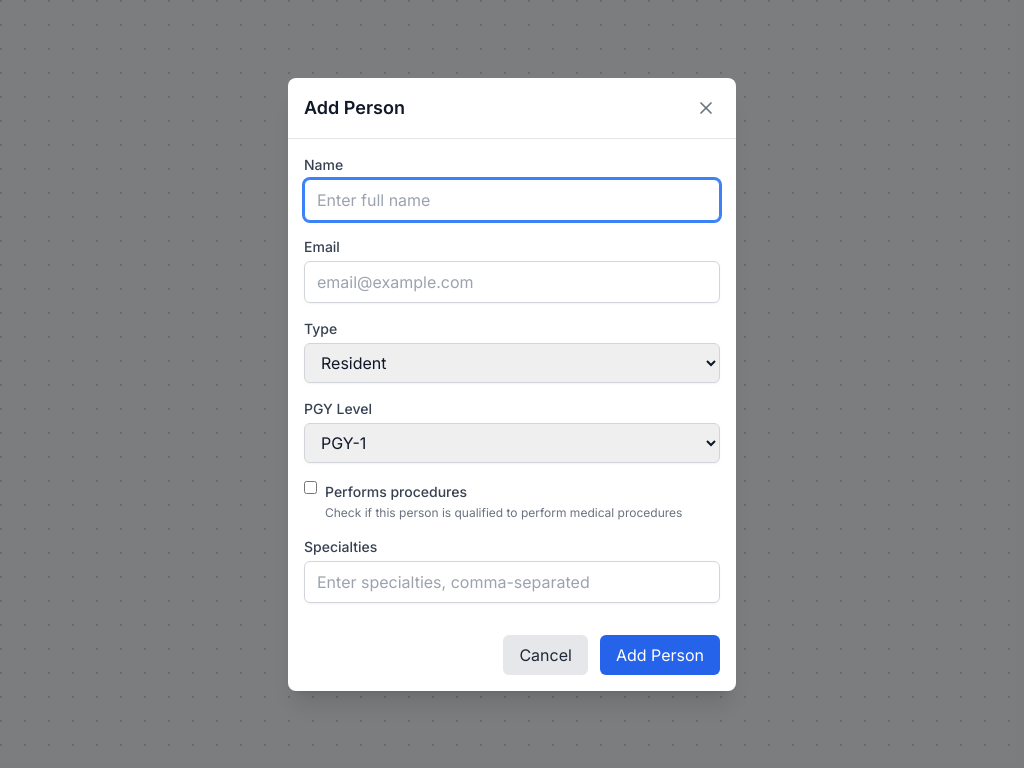
Test: AddPersonModal › Conditional PGY Level Field › should hide PGY level field when type is faculty
# Change type to faculty
Select "Faculty" in the dropdown labelled "Type" at (512, 362), box [304,342,720,382]
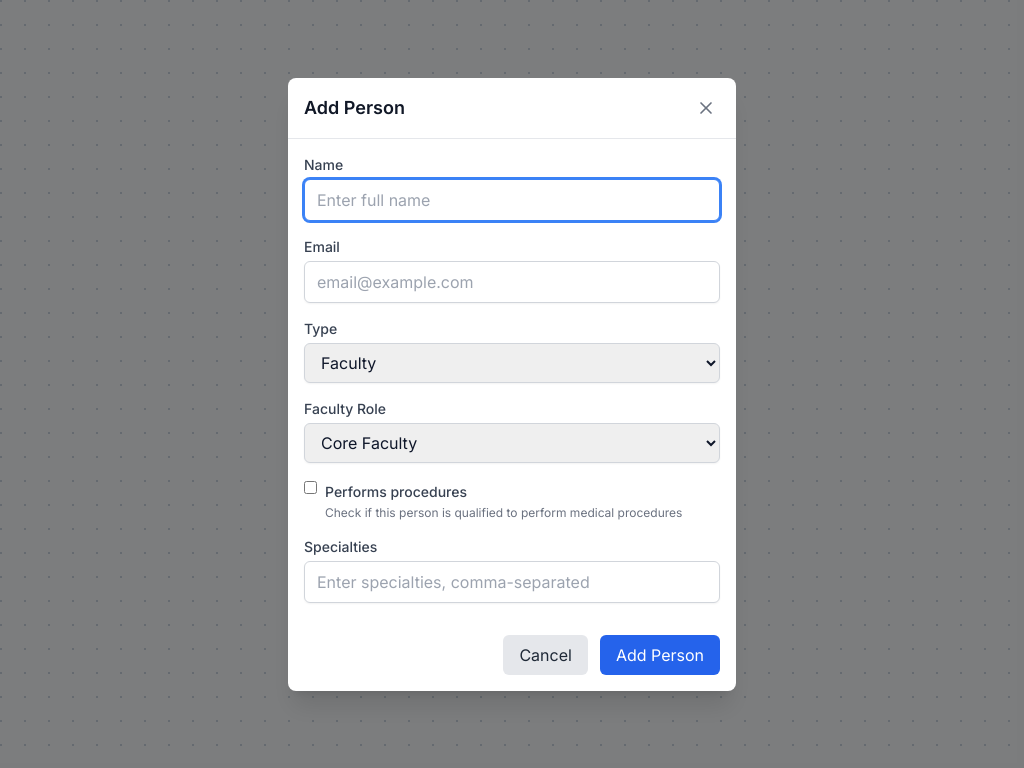
expect the label labelled "PGY Level" is gone: met
